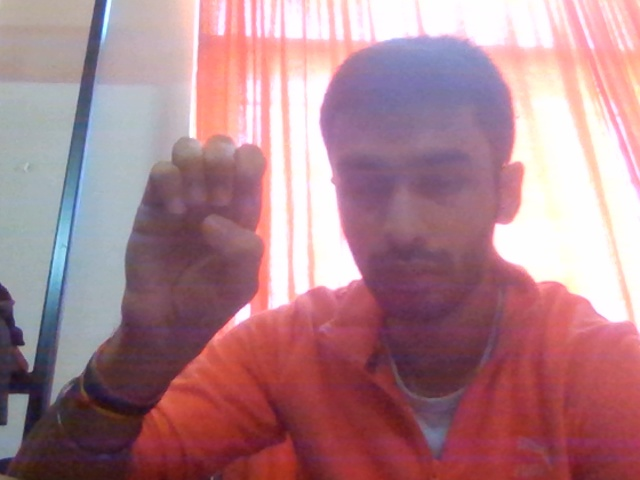E: (106, 106, 296, 387)
